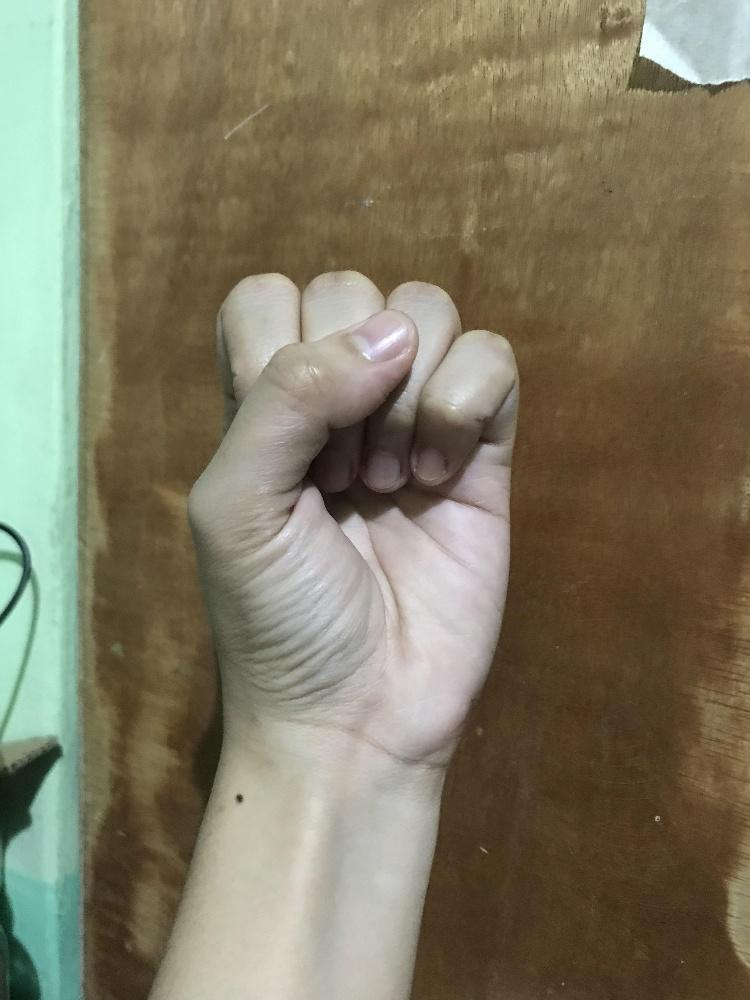s: (182, 265, 525, 764)
